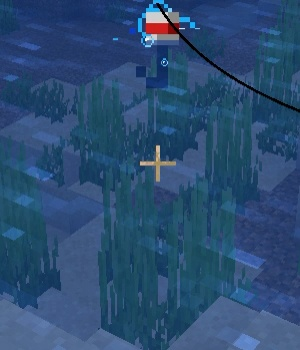up: (131, 5, 187, 90)
